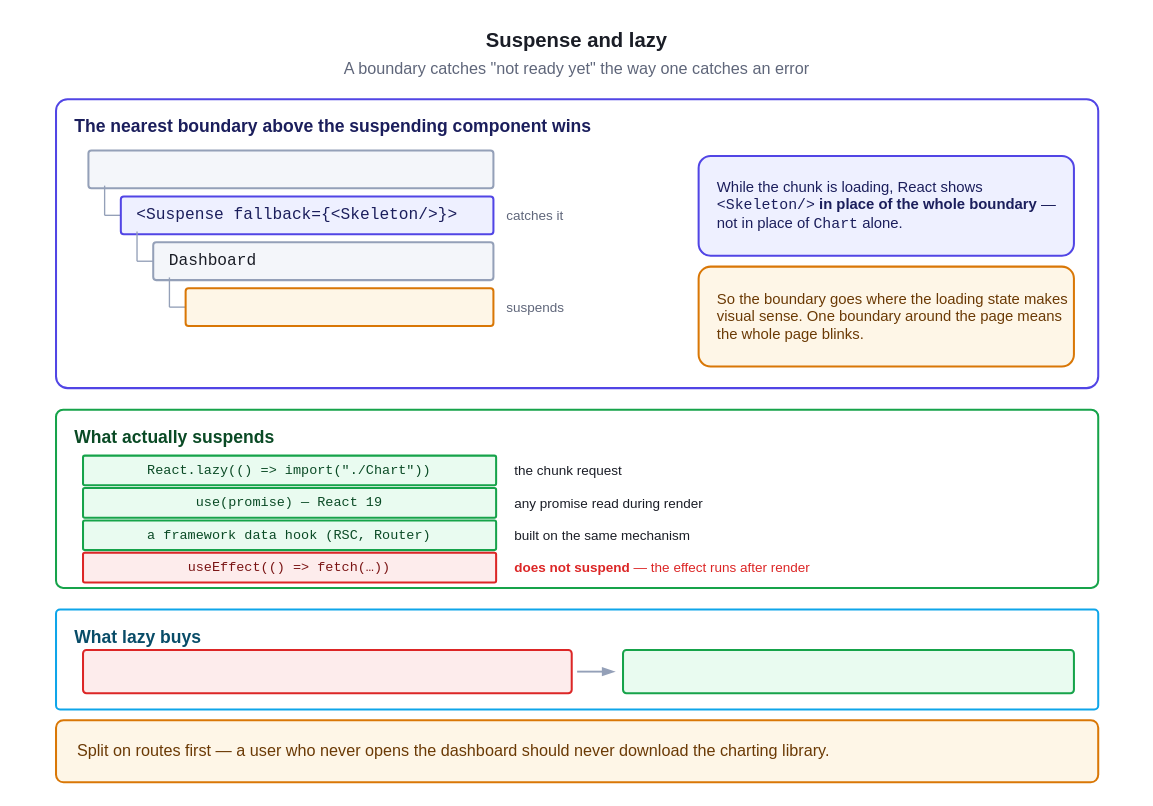
Image size: 1153x806. Some labels were removed from this diagram. Each missing label, with the centre of its shape:
"App" goes at point 290,169.
"lazy(Chart)" goes at point 339,306.
"one bundle · 820 KB · everything up front" goes at point 326,671.
"shell 180 KB + chart 640 KB on demand" goes at point 847,671.
